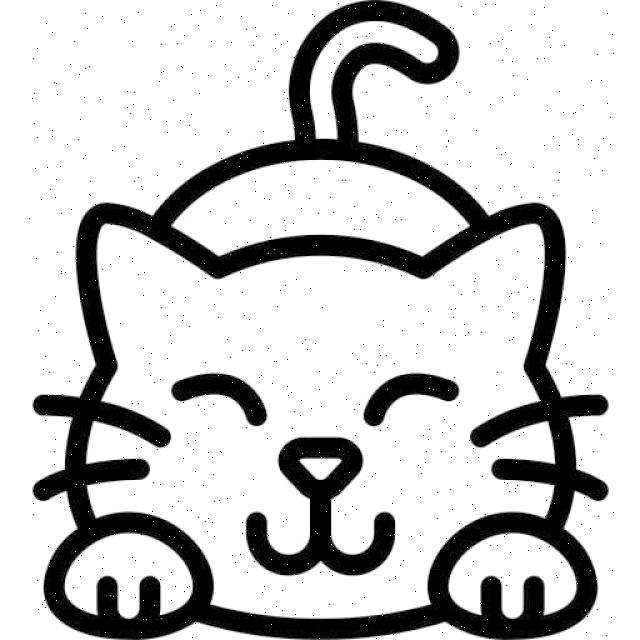cat: (30, 3, 615, 640)
